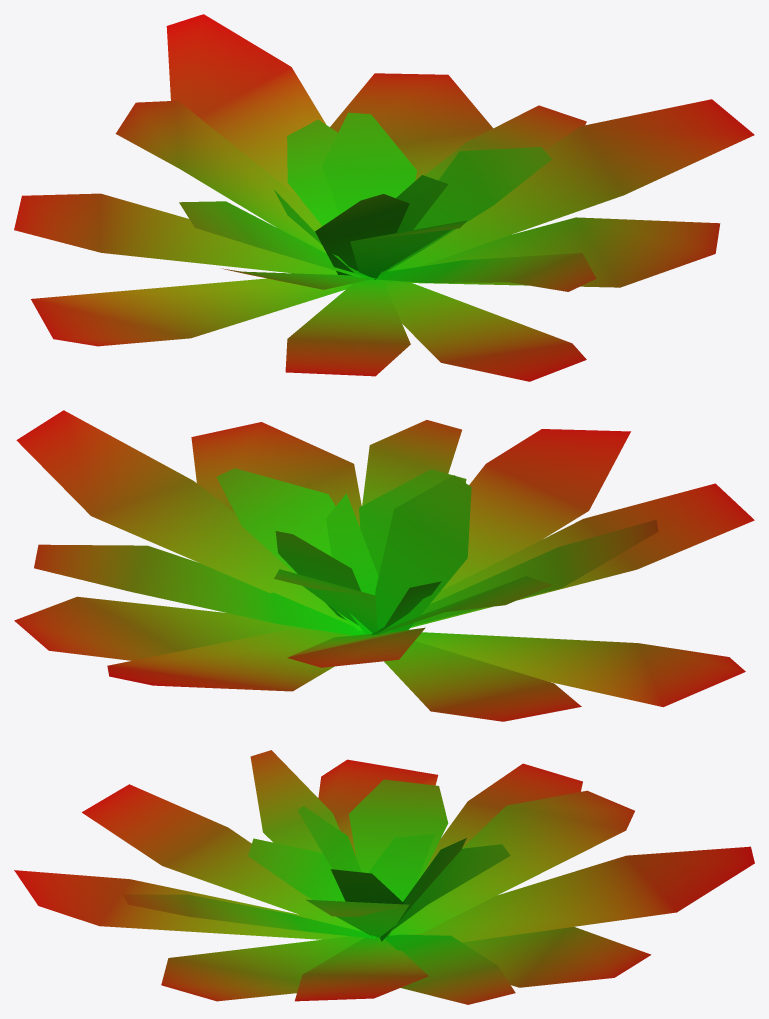
File: Var29_LOD2.fbx
3 renders of one model, top to bottom at view 1: azimuth 30°, elevation 25°; view 2: azimuth 150°, elevation 25°; view 3: azimuth 270°, elevation 25°, orthographic. The views are drawn at different scales.
Parts seen in each view (by area): view 1: _9q7j_Var29_LOD2; view 2: _9q7j_Var29_LOD2; view 3: _9q7j_Var29_LOD2.
Boxes of the visible parts, bbox=[...] form: _9q7j_Var29_LOD2: bbox=[14, 14, 754, 381]; _9q7j_Var29_LOD2: bbox=[14, 410, 754, 721]; _9q7j_Var29_LOD2: bbox=[14, 750, 754, 1004].
Size of the model in its own units: 15.5 by 2.97 by 16.31.
